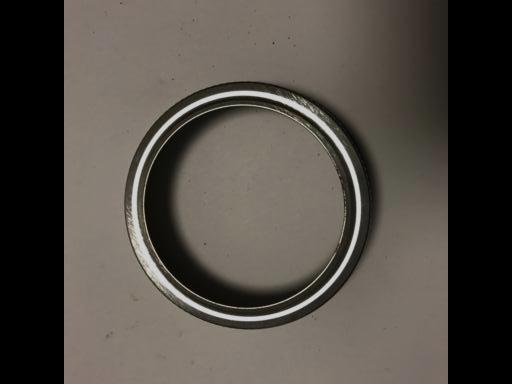metal: (123, 79, 373, 330)
